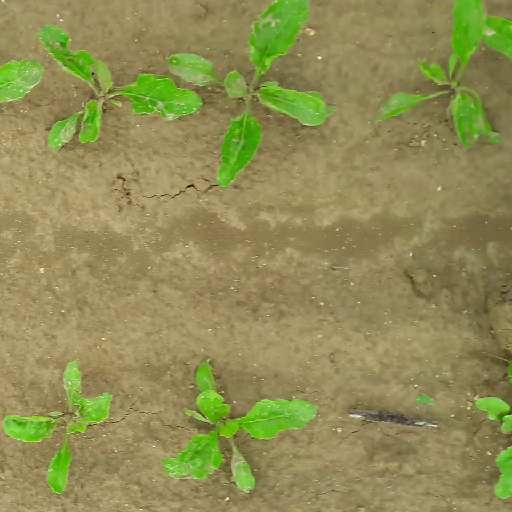sugarbeet: (165, 1, 333, 190), (29, 20, 206, 152), (162, 353, 321, 496), (369, 1, 504, 148), (1, 357, 113, 495)
